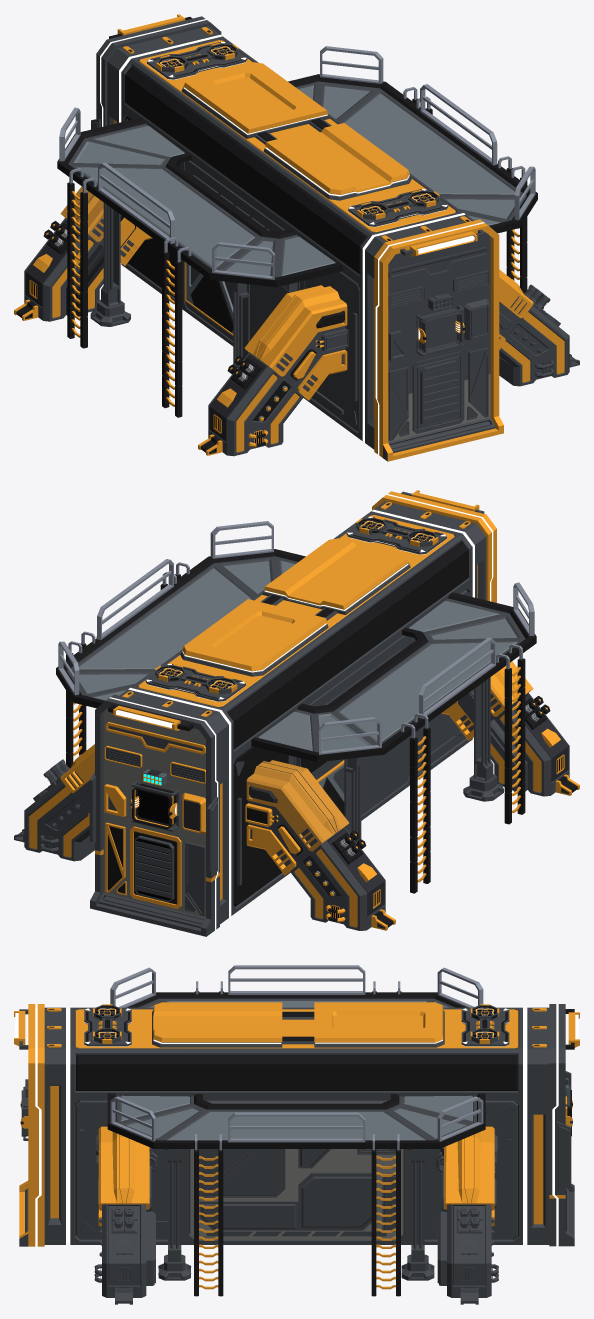
The model's file is SM_Collector.glb.
3 views of the same model, one above another, from view 1: azimuth 30°, elevation 25°; view 2: azimuth 150°, elevation 25°; view 3: azimuth 270°, elevation 25° (orthographic). The views are drawn at different scales.
Parts seen in each view (by area): view 1: SM_Collector; view 2: SM_Collector; view 3: SM_Collector.
Boxes of the visible parts, x1,y1,x2,y2 form: SM_Collector: (14,14,579,461); SM_Collector: (14,490,579,936); SM_Collector: (14,965,579,1304).
Bounding box in the file's own units: 12.81 × 6.99 × 17.97.
3 materials, 1 textured.
